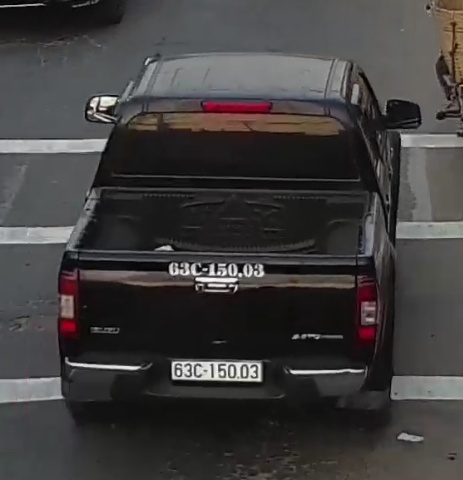vehicle plate: (169, 355, 265, 385)
